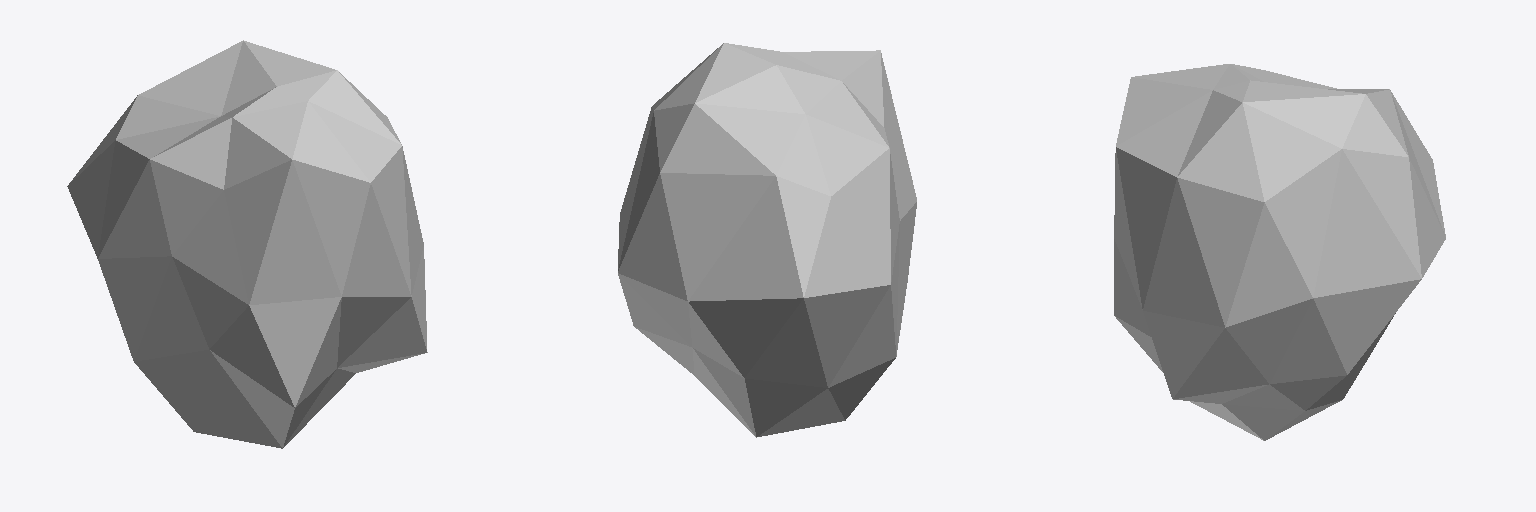
File: tree_3_top.obj
The picture shows the model from 3 angles: view 1: azimuth 30°, elevation 25°; view 2: azimuth 150°, elevation 25°; view 3: azimuth 270°, elevation 25°; orthographic projection.
Visible parts, largest first — view 1: Icosphere; view 2: Icosphere; view 3: Icosphere.
Boxes of the visible parts, x1,y1,x2,y2 form: Icosphere: [67, 40, 427, 448]; Icosphere: [618, 43, 916, 437]; Icosphere: [1114, 64, 1445, 440].
Bounding box in the file's own units: 4.22 × 5.28 × 4.32.